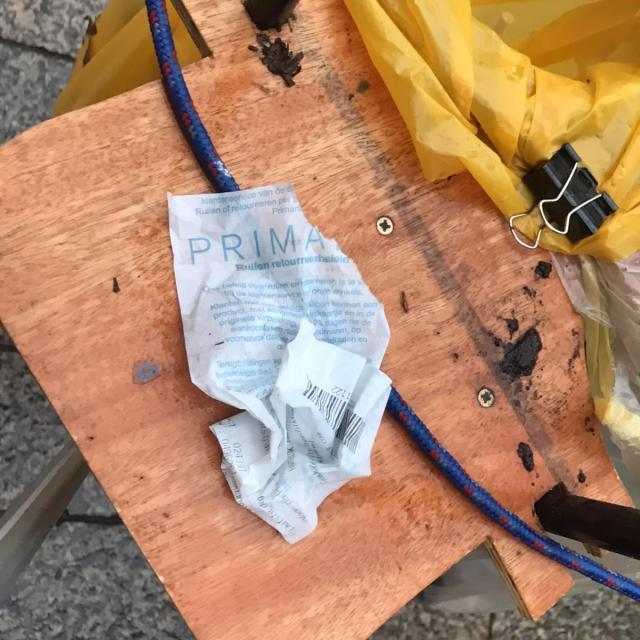Paper: (162, 174, 396, 552)
